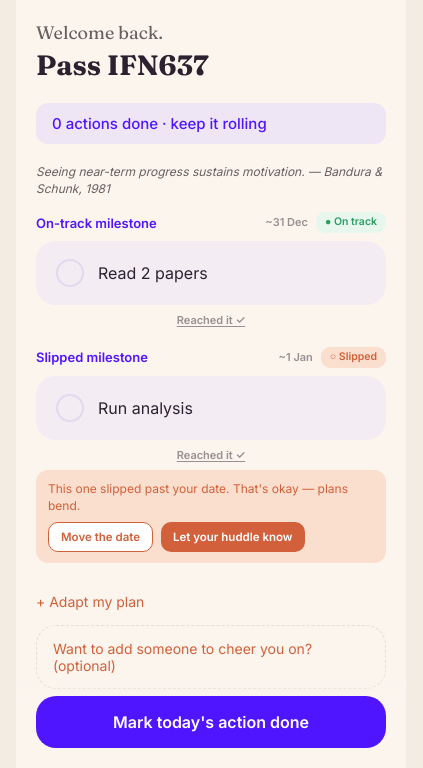
Test: "Move the date" reveals preset chips
The width and height of the screenshot is (423, 768).
Click the button "Move the date" at (100, 537), box [48,522,153,552]
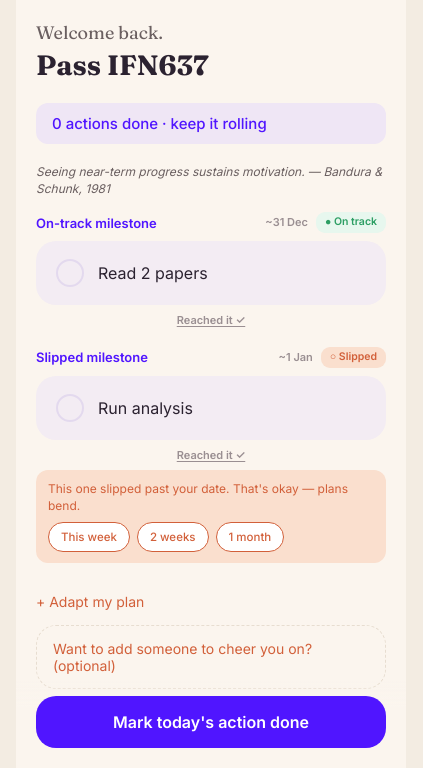
Now the button "1 month" is shown, box [216,522,284,552]
